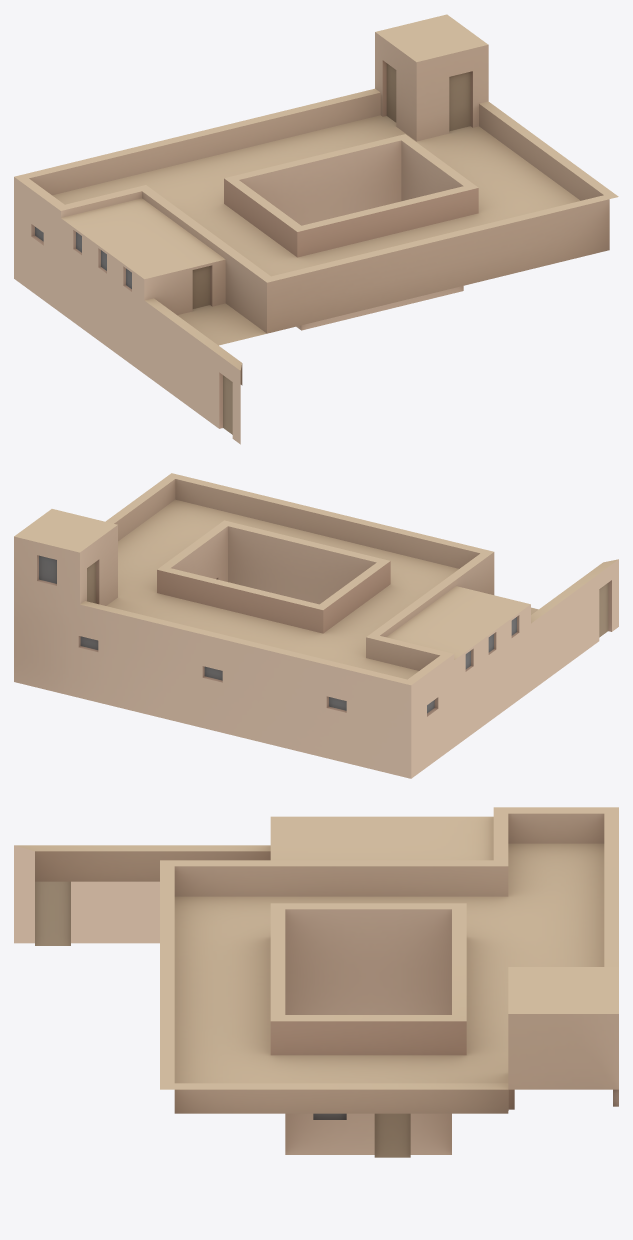
The picture shows the model from 3 angles, top to bottom: view 1: azimuth 30°, elevation 25°; view 2: azimuth 150°, elevation 25°; view 3: azimuth 270°, elevation 25°; orthographic projection. The views are drawn at different scales.
Parts seen in each view (by area): view 1: atturaifworldheritagesite70030076209992635; view 2: atturaifworldheritagesite70030076209992635; view 3: atturaifworldheritagesite70030076209992635.
Boxes of the visible parts, x1,y1,x2,y2 form: atturaifworldheritagesite70030076209992635: (14,14,618,444); atturaifworldheritagesite70030076209992635: (14,473,618,778); atturaifworldheritagesite70030076209992635: (14,807,618,1157).
Size of the model in its own units: 16 by 5.6 by 14.5.
1 material, 1 textured.
